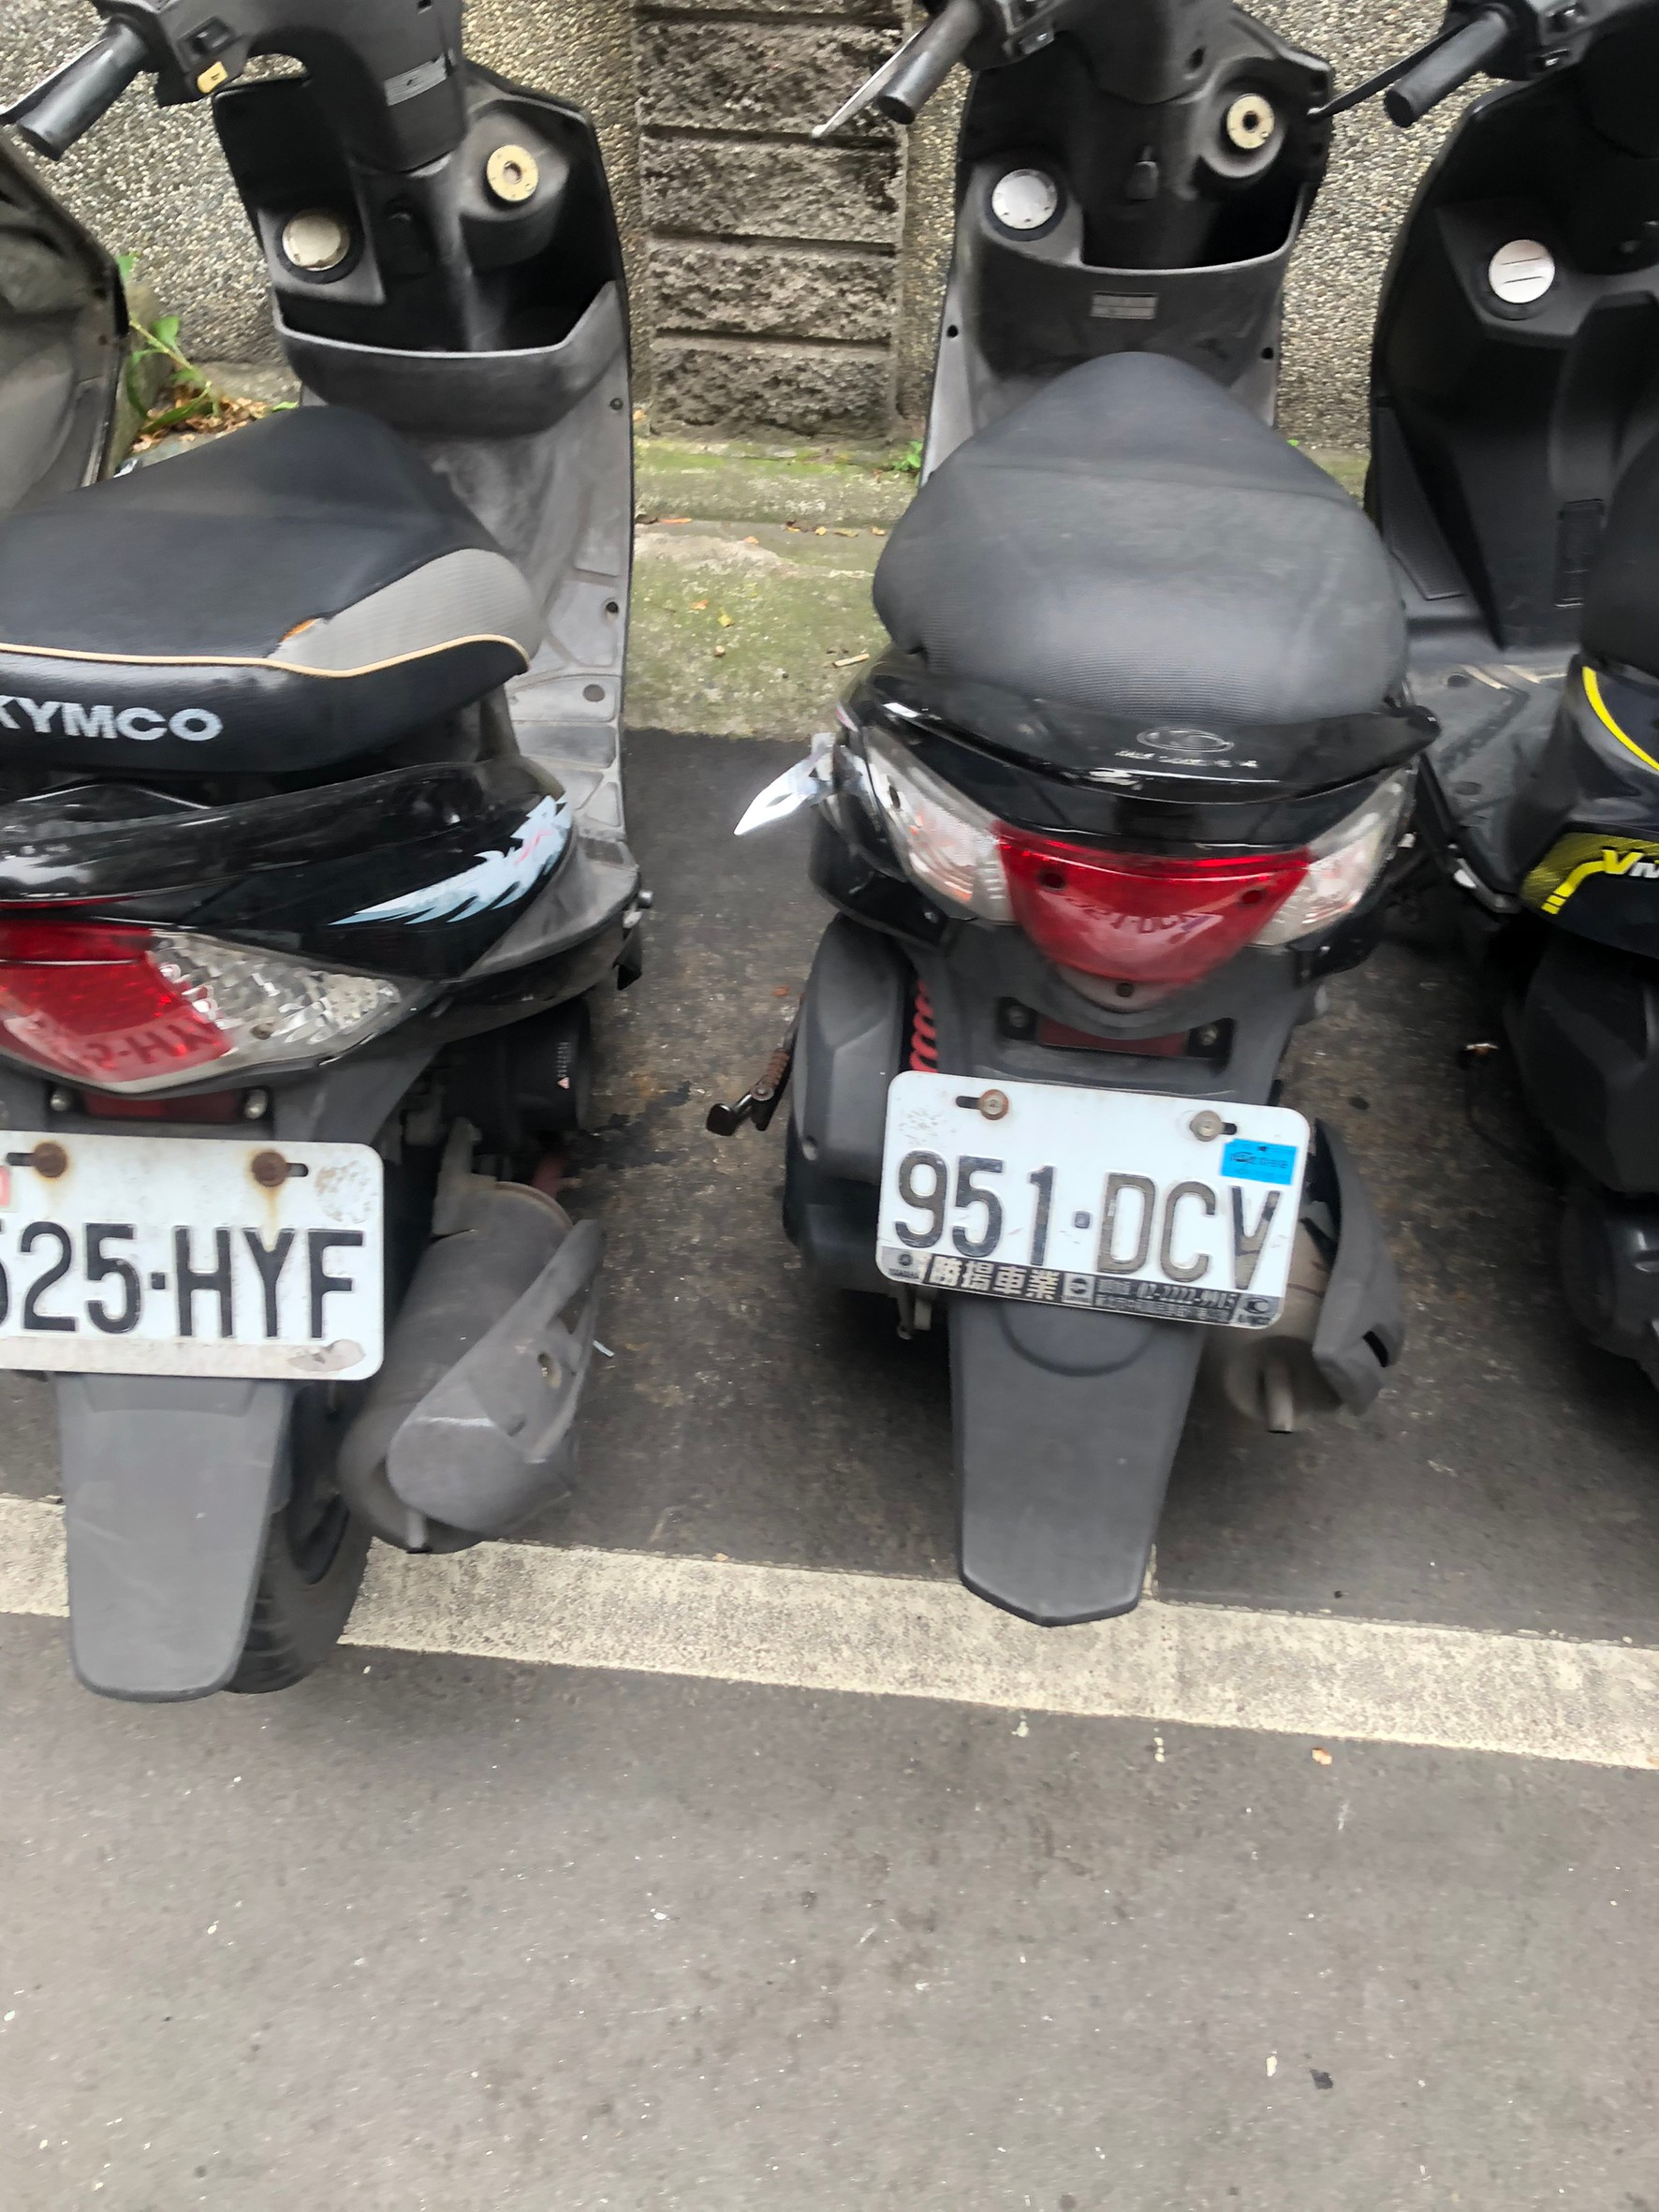LP: (881, 1059, 1299, 1340), (1, 1134, 390, 1386)
